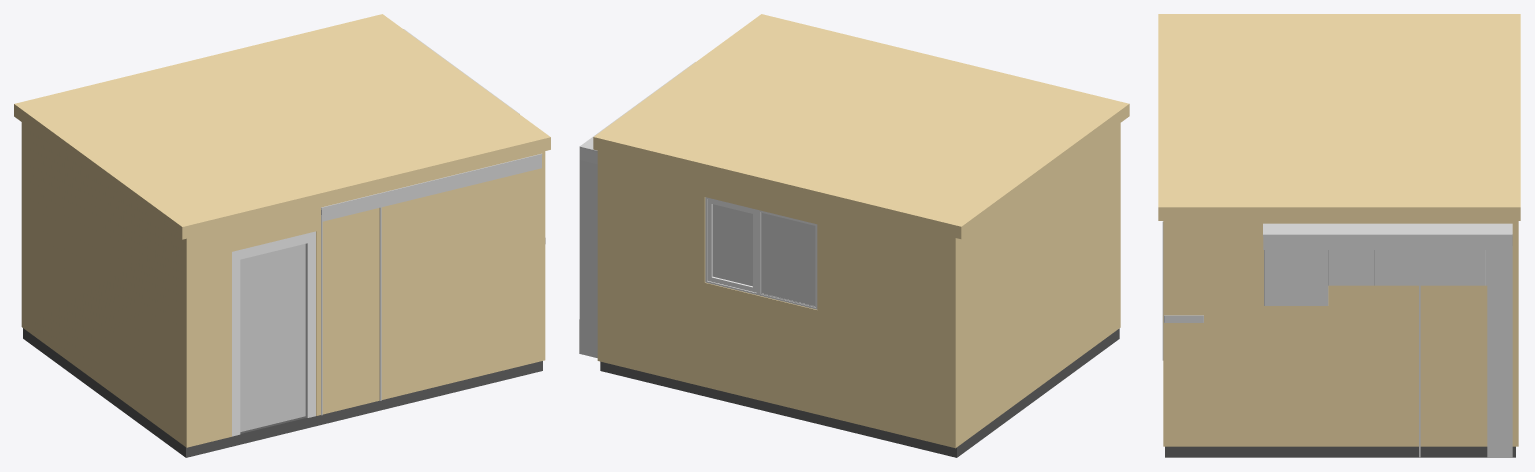
The model's file is FloorPlan24_physics.fbx.
3 views of the same model, side by side, from view 1: azimuth 30°, elevation 25°; view 2: azimuth 150°, elevation 25°; view 3: azimuth 270°, elevation 25° (orthographic). The views are drawn at different scales.
Parts seen in each view (by area): view 1: Room.028, Ceiling, Door, Floor1, DoorFrame, Cube.294; view 2: Room.028, Ceiling, WindowPane, Floor1, Cube.275, WindowFrame; view 3: Ceiling, Room.028, Cube.275, Floor1, Cube.294.
Part boxes in pixels (x1,y1,x2,y2): Room.028: (21, 122, 545, 447); Ceiling: (14, 14, 550, 239); Door: (240, 244, 305, 431); Floor1: (23, 328, 542, 457); DoorFrame: (232, 231, 315, 436); Cube.294: (321, 153, 545, 415); Room.028: (597, 123, 1120, 448); Ceiling: (593, 14, 1129, 239); WindowPane: (712, 204, 815, 305); Floor1: (600, 328, 1119, 457); Cube.275: (579, 62, 695, 357); WindowFrame: (705, 197, 817, 309); Ceiling: (1158, 14, 1520, 220); Room.028: (1163, 221, 1518, 446); Cube.275: (1263, 223, 1512, 457); Floor1: (1165, 446, 1515, 457); Cube.294: (1162, 221, 1203, 360).
Size of the model in its own units: 459 by 266 by 346.
